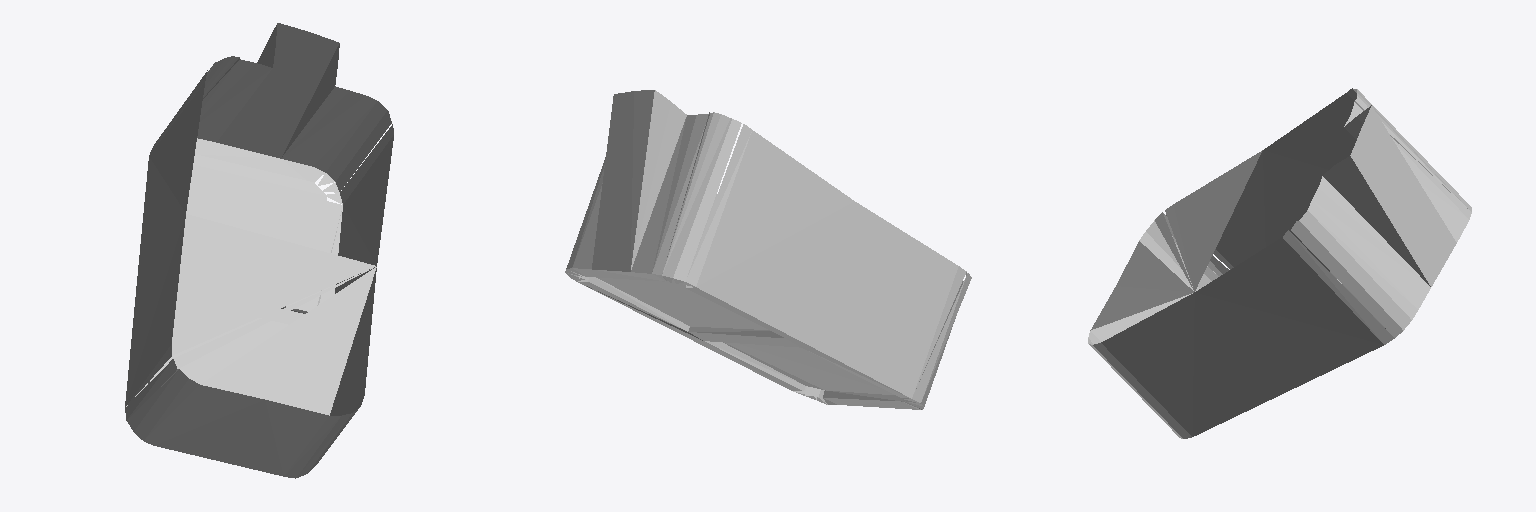
The model's file is control_box_1.obj.
3 renders of one model, left to right at view 1: azimuth 30°, elevation 25°; view 2: azimuth 150°, elevation 25°; view 3: azimuth 270°, elevation 25°, orthographic.
Parts seen in each view (by area): view 1: control_box_1; view 2: control_box_1; view 3: control_box_1.
Part boxes in pixels (x1,y1,x2,y2): control_box_1: (125, 23, 393, 478); control_box_1: (565, 90, 971, 409); control_box_1: (1088, 88, 1471, 438).
Size of the model in its own units: 0.0002 by 0.0002 by 0.0002.